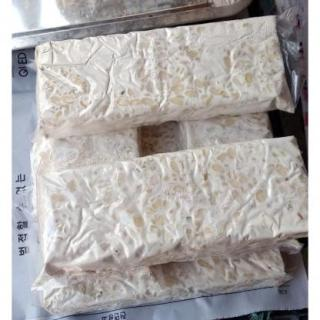Tempe: (42, 136, 308, 267), (34, 15, 295, 133)
